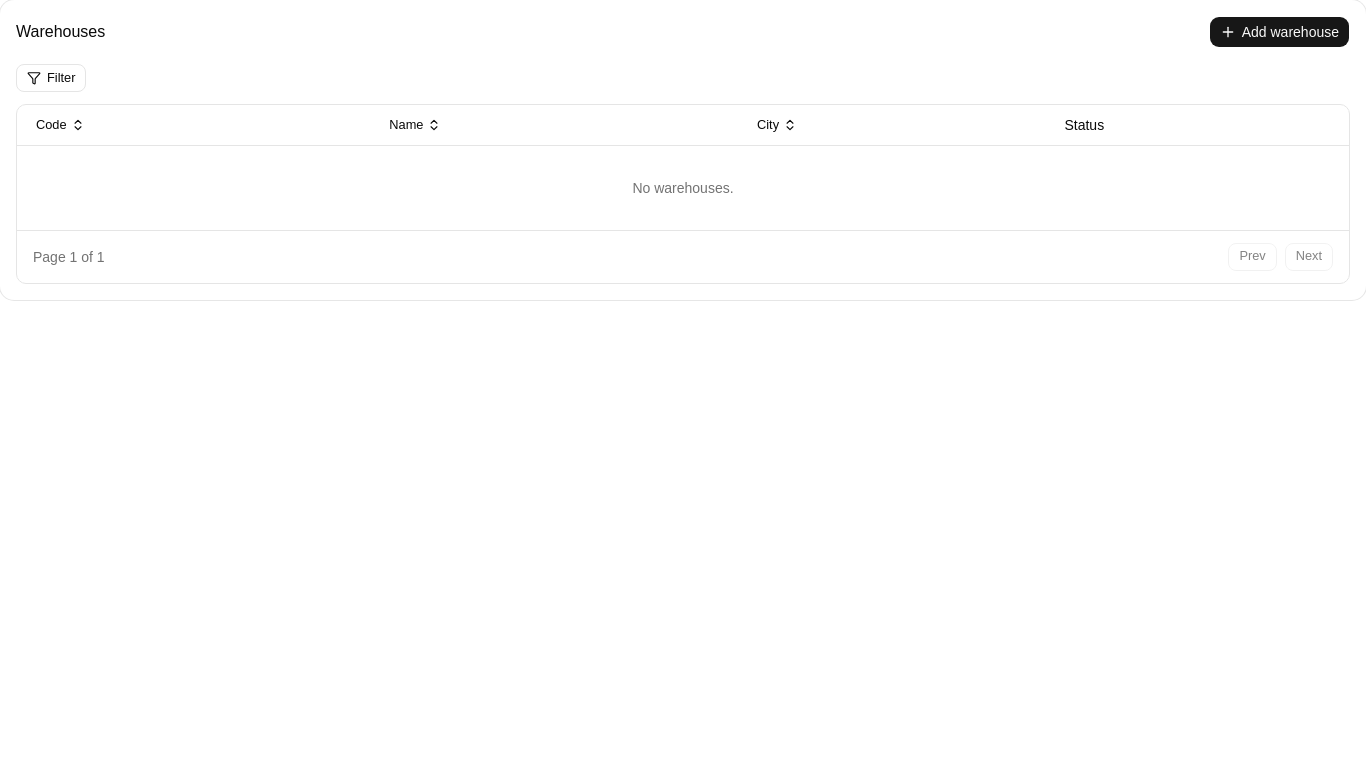
it: WarehousesTable › creates a warehouse and refreshes the table
Expected: the text "No warehouses." is shown, x1=17 y1=145 x2=1349 y2=230
Click the button "Add warehouse": {"x": 1279, "y": 32} x1=1209 y1=16 x2=1350 y2=48
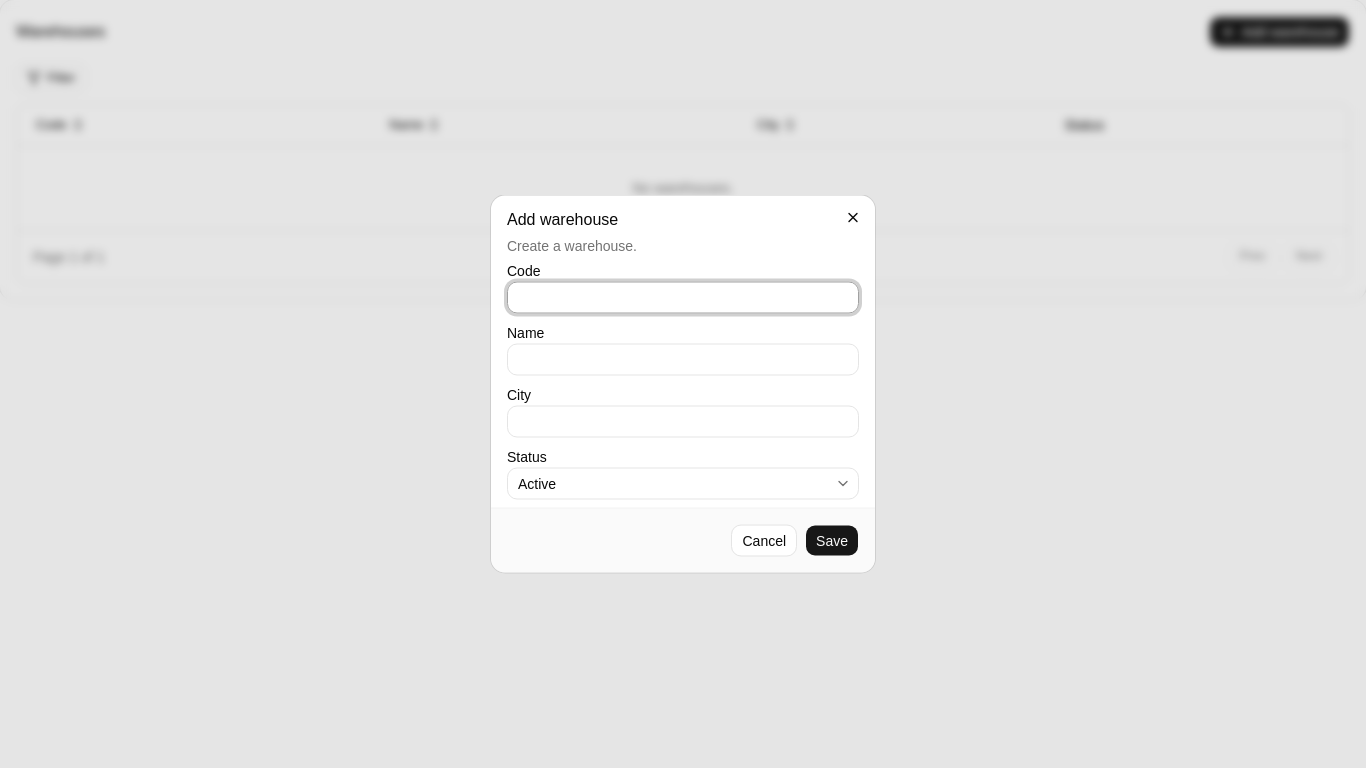
In the field labelled "Code": {"x": 683, "y": 298} x1=507 y1=282 x2=859 y2=314, type "mdn-01"
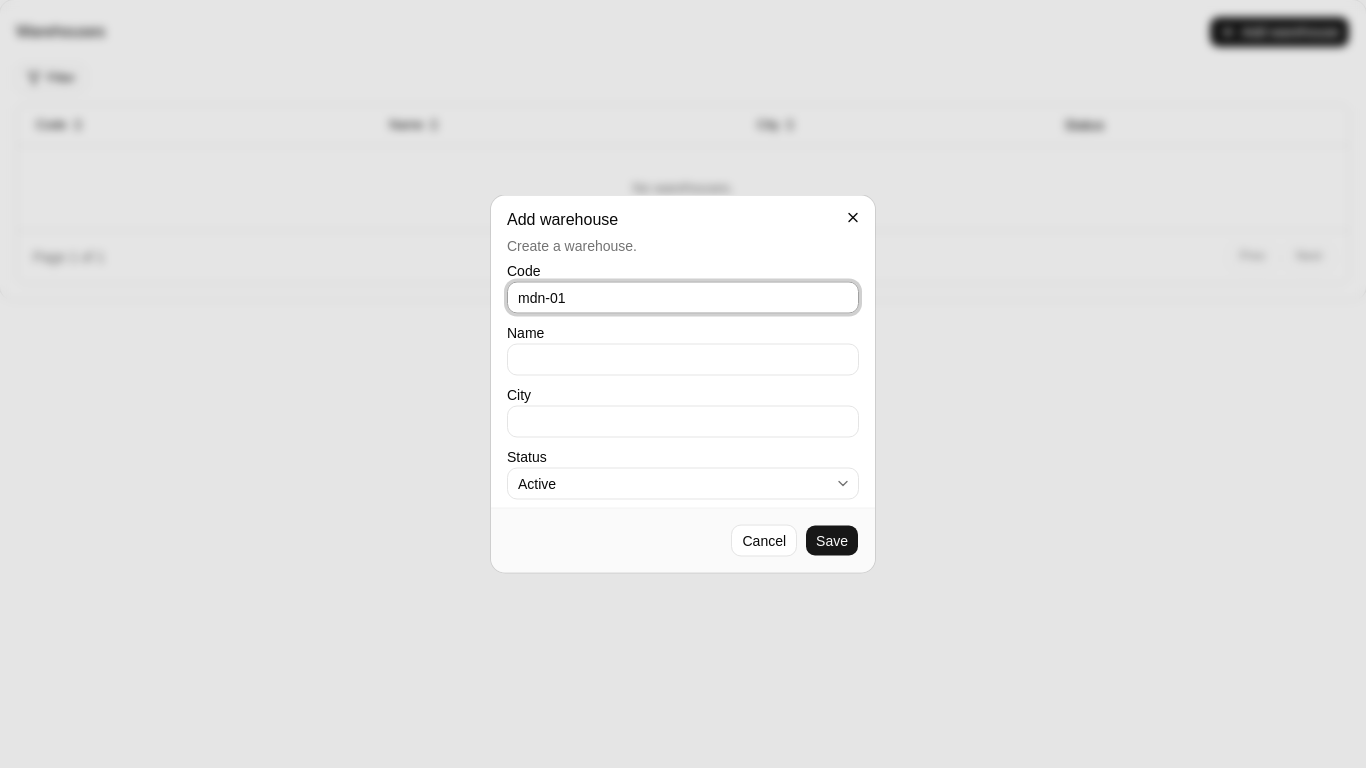
In the field labelled "Name": {"x": 683, "y": 360} x1=507 y1=344 x2=859 y2=376, type "Medan Forward Stock"
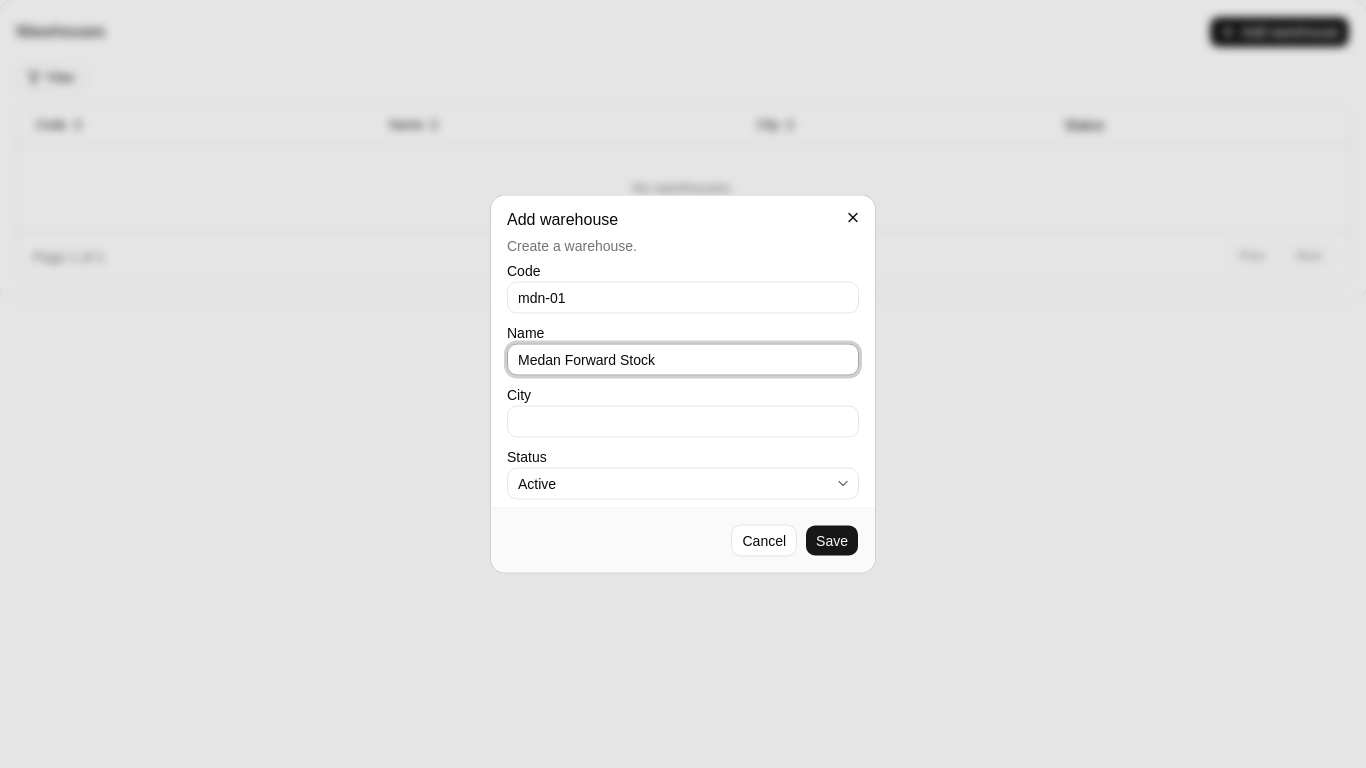
In the field labelled "City": {"x": 683, "y": 422} x1=507 y1=406 x2=859 y2=438, type "Medan"
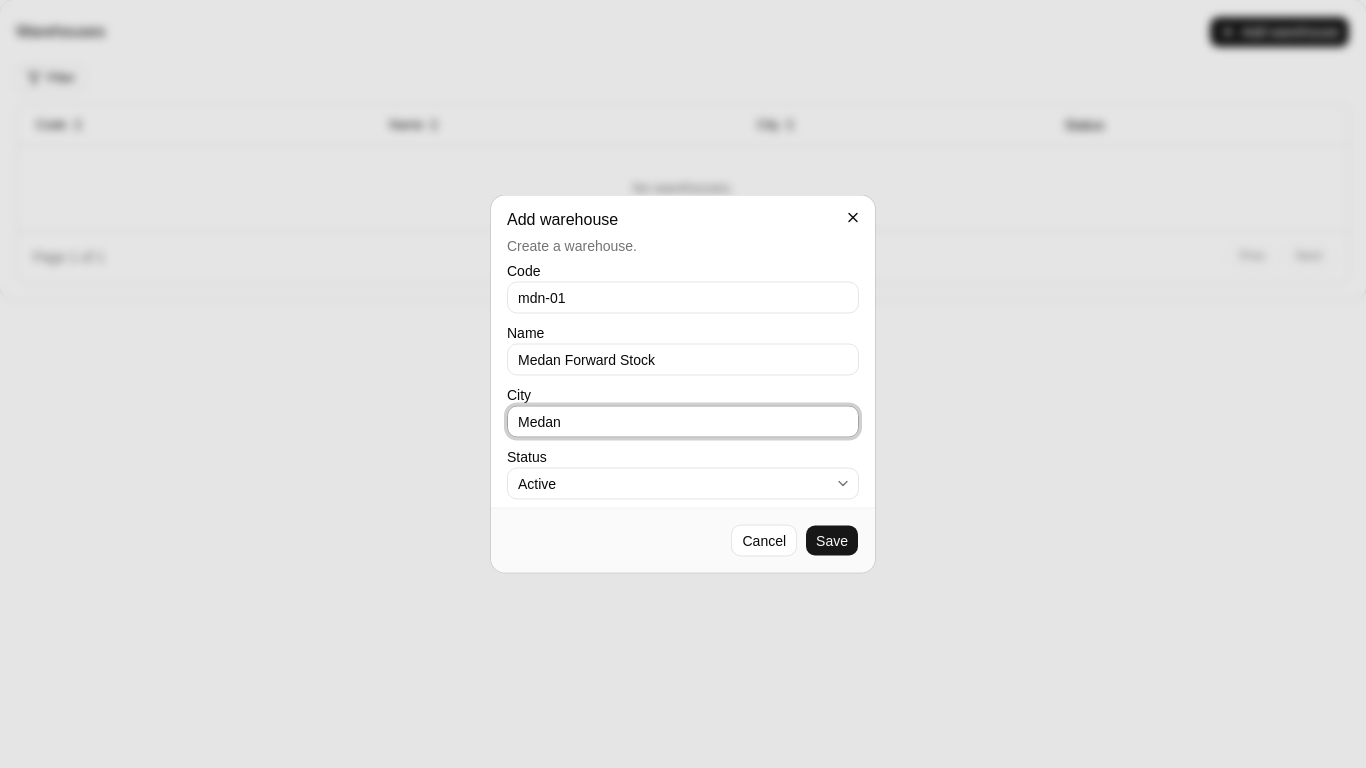
Click the button "Save": {"x": 832, "y": 540} x1=805 y1=524 x2=859 y2=556
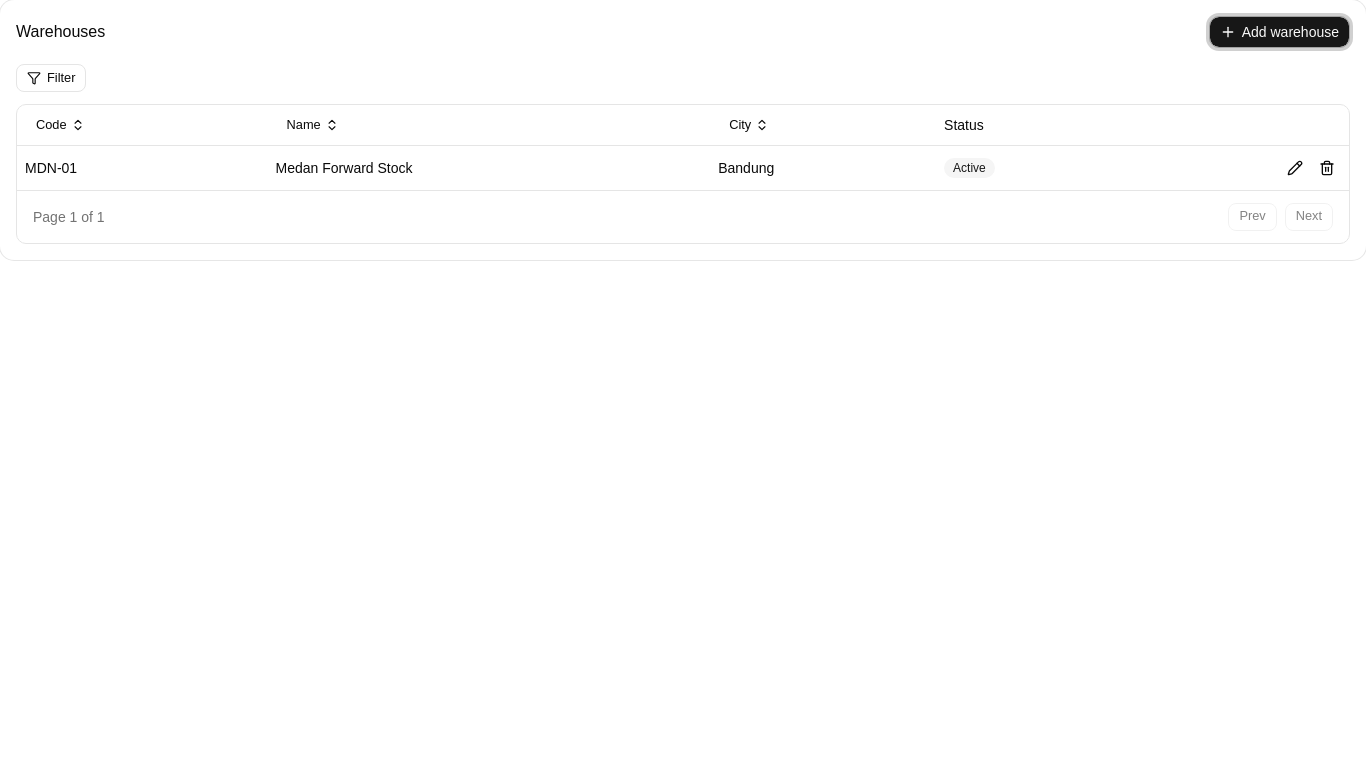
Expected: the text "Medan Forward Stock" is shown, x1=268 y1=145 x2=710 y2=190
